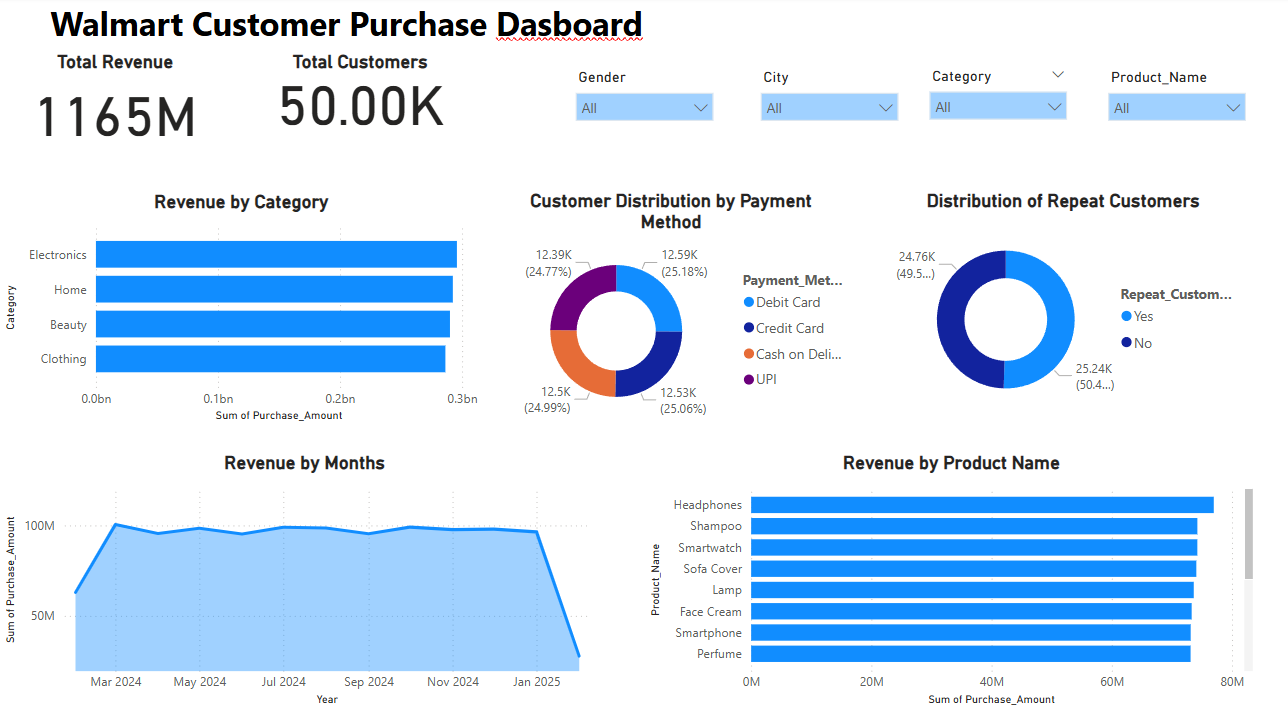

The dashboard page shown, as its layout file describes it:
{"tool":"powerbi","page":{"name":"Page 1","canvas":[1280,720],"ordinal":0},"visuals":[{"type":"areaChart","title":"Revenue by Months","fields":{"Category":["data clean.Purchase_Date.Variation.Date Hierarchy.Year","data clean.Purchase_Date.Variation.Date Hierarchy.Month"],"Y":["Sum(data clean.Purchase_Amount)"]},"box":[11,446.3,595.5,253.1],"z":0},{"type":"barChart","title":"Revenue by Category","fields":{"Category":["data clean.Category"],"Y":["Sum(data clean.Purchase_Amount)"]},"box":[11,190.8,472,231.1],"z":1000},{"type":"donutChart","title":"Customer Distribution by Payment Method","fields":{"Category":["data clean.Payment_Method"],"Y":["CountNonNull(data clean.Customer_ID)"]},"box":[485.8,189.4,363.6,231.9],"z":2000},{"type":"card","title":"Total Revenue","fields":{"Values":["Sum(data clean.Purchase_Amount)"]},"box":[0,53.5,247,91.9],"z":3000},{"type":"card","title":"Total Customers","fields":{"Values":["CountNonNull(data clean.Customer_ID)"]},"box":[234.6,53.5,256.6,91.9],"z":4000},{"type":"slicer","fields":{"Values":["data clean.Gender"]},"box":[564,65.9,155.1,79.6],"z":5000},{"type":"slicer","fields":{"Values":["data clean.Product_Name"]},"box":[1084.1,65.9,155.1,75.5],"z":6000},{"type":"textbox","box":[54.9,0,1225.4,53.5],"z":7000},{"type":"slicer","fields":{"Values":["data clean.Category"]},"box":[909.8,64.5,155.1,81],"z":8000},{"type":"slicer","fields":{"Values":["data clean.City"]},"box":[745.1,65.9,155.1,65.9],"z":9000},{"type":"donutChart","title":"Distribution of Repeat Customers","fields":{"Category":["data clean.Repeat_Customer"],"Y":["CountNonNull(data clean.Customer_ID)"]},"box":[878.2,189.4,345.8,231.9],"z":10000},{"type":"barChart","title":"Revenue by Product Name","fields":{"Category":["data clean.Product_Name"],"Y":["Sum(data clean.Purchase_Amount)"]},"box":[642,446.3,599.2,253.1],"z":11000}]}

Visuals, with their boxes in screenshot pixels (x1, y1, x2, y2), scaled from the page's 1280x720 canvas onto the 1288x708 screenshot:
"Revenue by Months" areaChart: [x1=11, y1=439, x2=610, y2=688]
"Revenue by Category" barChart: [x1=11, y1=188, x2=486, y2=415]
"Customer Distribution by Payment Method" donutChart: [x1=489, y1=186, x2=855, y2=414]
"Total Revenue" card: [x1=0, y1=53, x2=249, y2=143]
"Total Customers" card: [x1=236, y1=53, x2=494, y2=143]
slicer - data clean.Gender: [x1=568, y1=65, x2=724, y2=143]
slicer - data clean.Product_Name: [x1=1091, y1=65, x2=1247, y2=139]
textbox: [x1=55, y1=0, x2=1287, y2=53]
slicer - data clean.Category: [x1=915, y1=63, x2=1072, y2=143]
slicer - data clean.City: [x1=750, y1=65, x2=906, y2=130]
"Distribution of Repeat Customers" donutChart: [x1=884, y1=186, x2=1232, y2=414]
"Revenue by Product Name" barChart: [x1=646, y1=439, x2=1249, y2=688]
